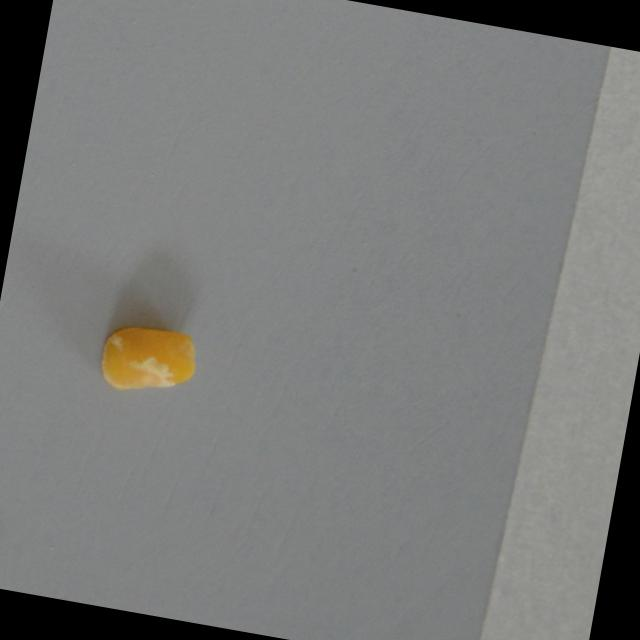pelicula: (95, 318, 199, 404)
